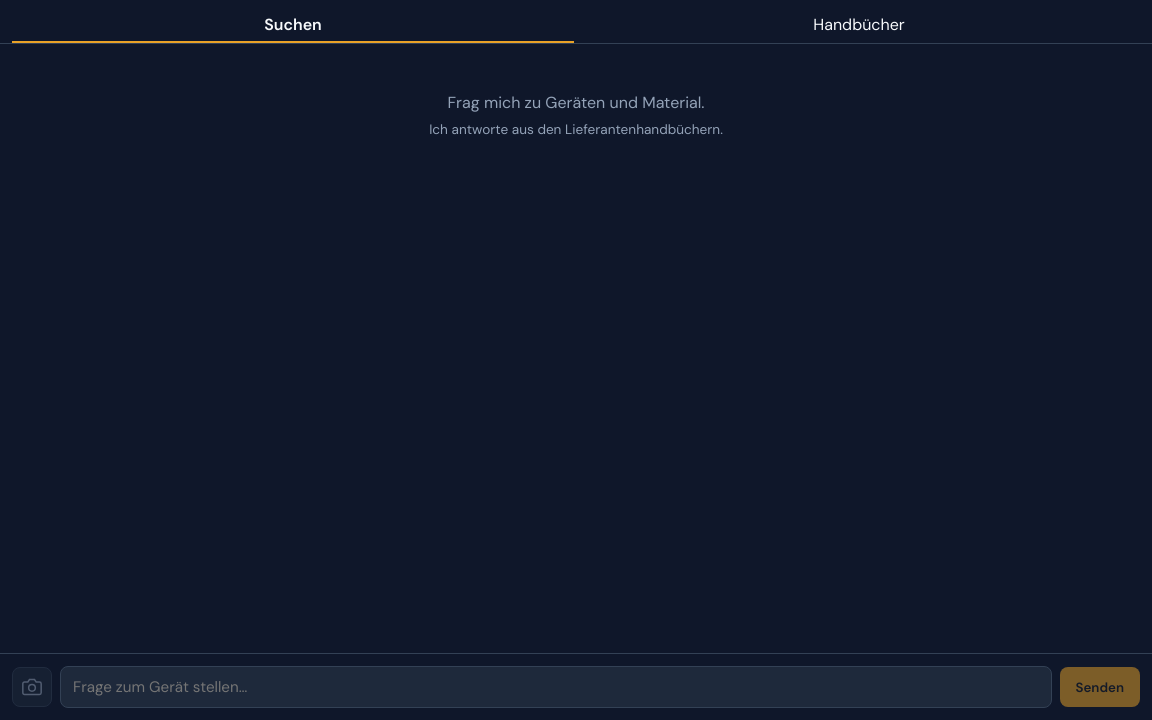
Scenario: WikiBot — Fragen › streamt die Antwort und verlinkt die Quelle aufs PDF
The width and height of the screenshot is (1152, 720).
Step 1. Type "Drehmoment?" into the text box with placeholder "Frage zum Gerät stellen…" → point(556, 687), box [60,666,1052,708]
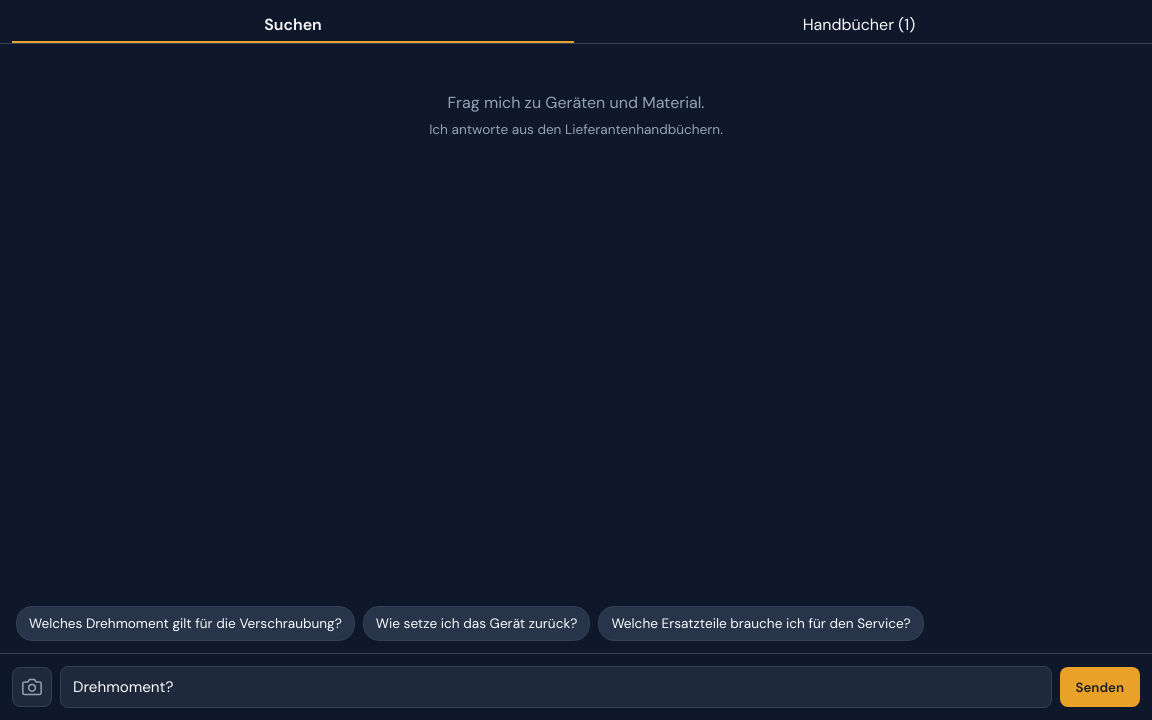
Step 2. Click the button "Senden" → point(1100, 687), box [1060,667,1140,707]
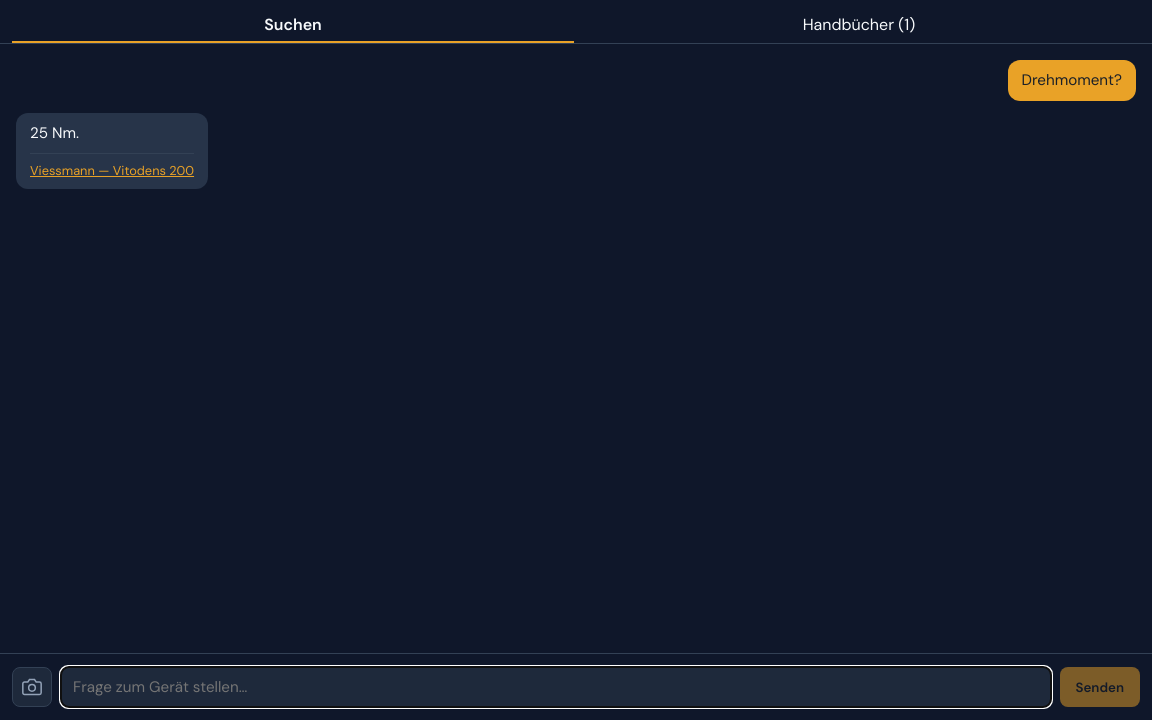
Check: the text "25 Nm." is shown, box [30,123,79,143]
